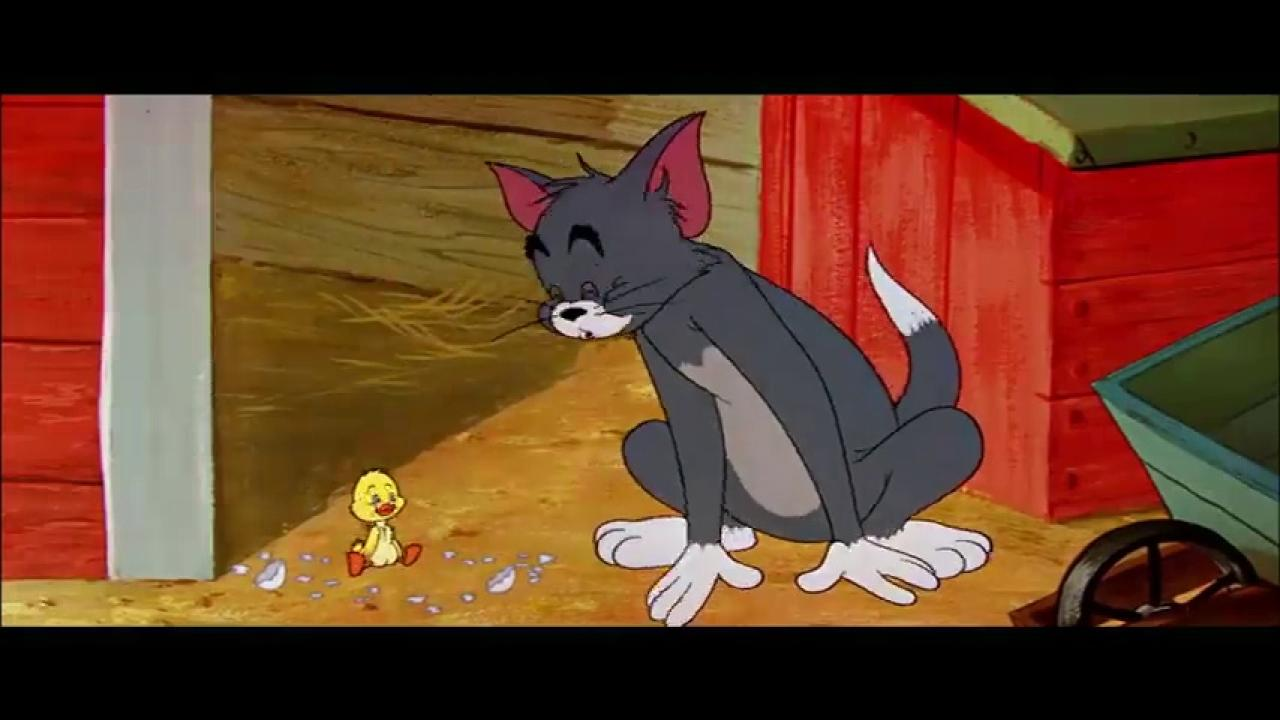Tom: (481, 107, 995, 627)
